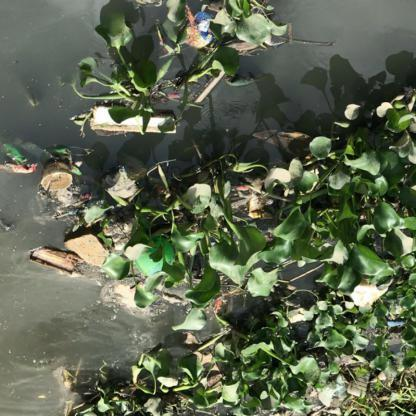Plastic: (38, 162, 73, 193)
Trash: (184, 8, 212, 53), (351, 370, 374, 401), (247, 194, 266, 216), (386, 314, 406, 334)
